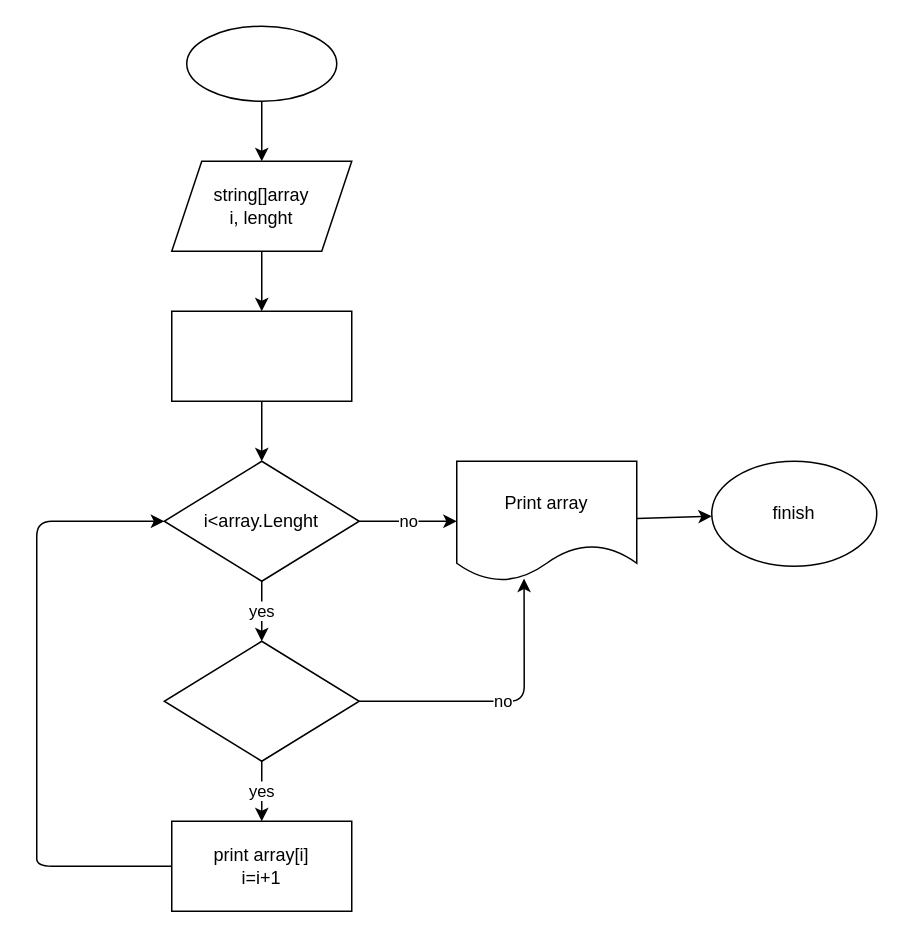
The diagram is 903 pixels wide and 938 high, and some of its shapes have lost their labels. The shapes that lost their labels are listed below. From the top down, each one's box as (x1, y1, x2, y2) in pixels, then its label:
(185, 25, 337, 101): start
(170, 310, 352, 401): i=0 lenght=array[i]lenght
(163, 640, 359, 761): lenght<=3
